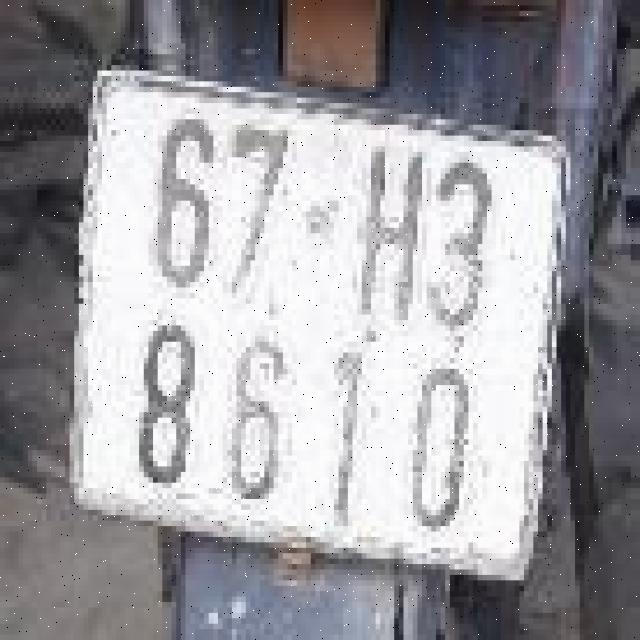0: (390, 355, 473, 545)
1: (315, 336, 371, 532)
3: (424, 149, 508, 339)
6: (137, 111, 216, 290), (222, 315, 296, 499)
7: (216, 103, 299, 315)
8: (123, 306, 206, 486)
H: (348, 125, 422, 331)
